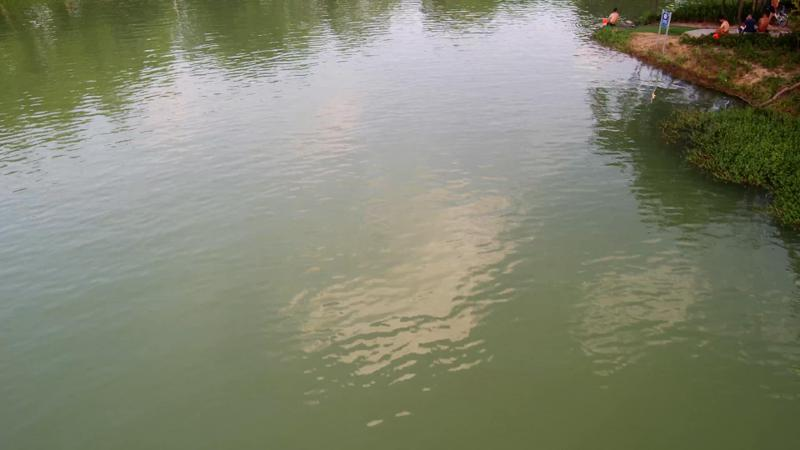passerby: (738, 13, 757, 33)
sus_swimmers: (602, 7, 620, 27), (757, 13, 770, 33), (717, 17, 730, 34)
